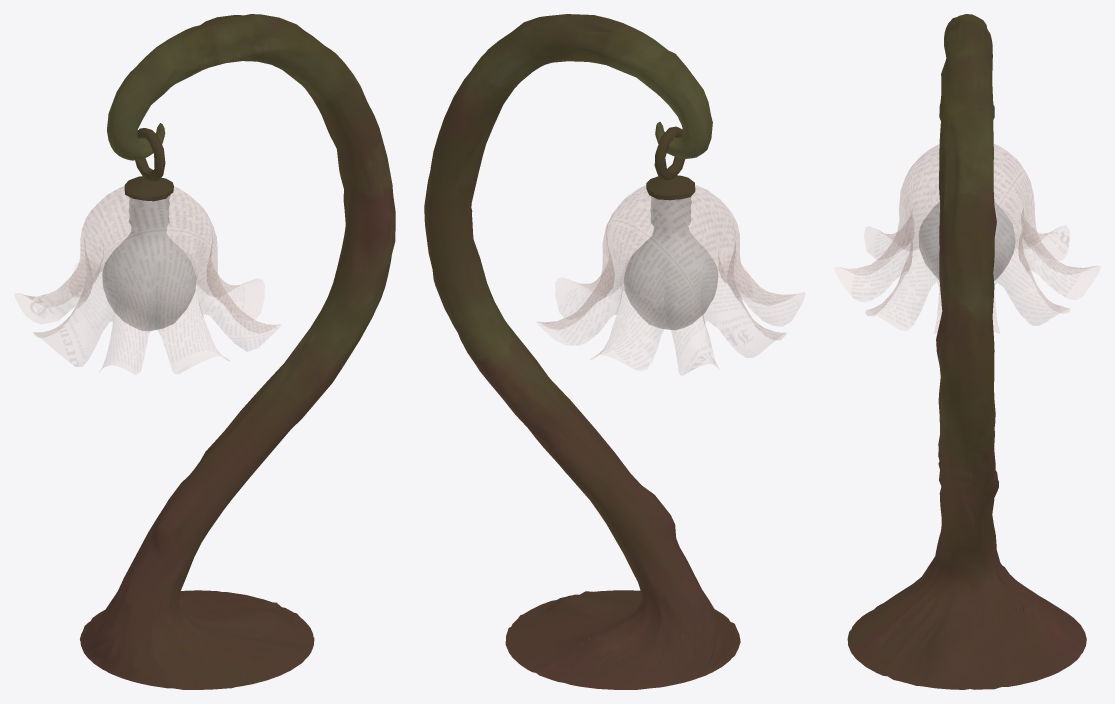
Rendered from lamp.glb.
3 renders of one model, left to right at view 1: azimuth 30°, elevation 25°; view 2: azimuth 150°, elevation 25°; view 3: azimuth 270°, elevation 25°, orthographic.
Bounding box in the file's own units: 1.13 × 1.86 × 0.7216.
Materials: 3 (3 with a texture image).
